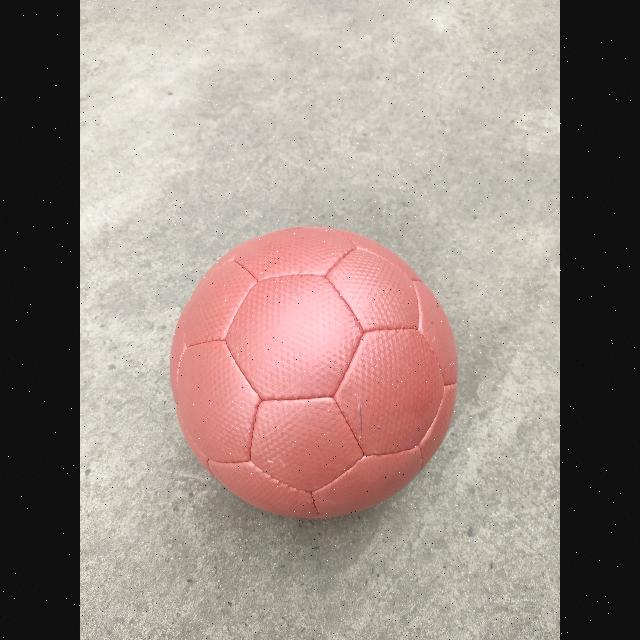R: (170, 227, 458, 518)
